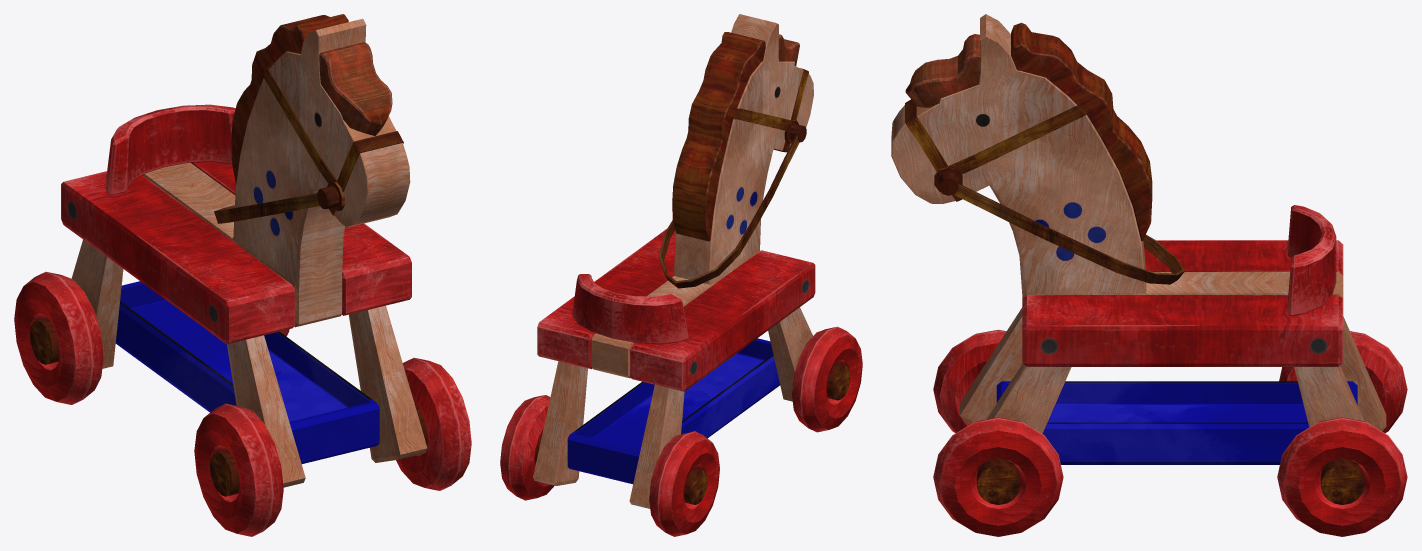
The model's file is horse_car4.fbx.
The picture shows the model from 3 angles, left to right: view 1: azimuth 30°, elevation 25°; view 2: azimuth 150°, elevation 25°; view 3: azimuth 270°, elevation 25°; orthographic projection. The views are drawn at different scales.
Parts seen in each view (by area): view 1: hourse_all_bodies_body1, dai_high_R, dai_low, tire_front_R, tire_back_R, hourse_all1_bodies_semotare, foot_front_L, tire_front_L, dai_high_L, foot_front_R, tategami3, foot_back_R (+5 smaller); view 2: hourse_all_bodies_body1, dai_high_R, dai_low, tategami2, dai_high_L, hourse_all1_bodies_semotare, tire_back_R, tire_front_R, foot_back_L, tire_back_L, foot_back_R, foot_front_R (+4 smaller); view 3: hourse_all_bodies_body1, dai_high_L, dai_low, tire_front_L, tire_back_L, tategami2, hourse_all1_bodies_semotare, dai_high_R, tire_front_R, foot_front_L, tategami3, foot_front_R (+7 smaller).
Boxes of the visible parts, x1=… form: hourse_all_bodies_body1: x1=143, y1=18, x2=410, y2=327; dai_high_R: x1=61, y1=171, x2=294, y2=344; dai_low: x1=115, y1=281, x2=379, y2=463; tire_front_R: x1=194, y1=403, x2=283, y2=536; tire_back_R: x1=14, y1=271, x2=103, y2=404; hourse_all1_bodies_semotare: x1=105, y1=104, x2=235, y2=195; foot_front_L: x1=349, y1=305, x2=427, y2=462; tire_front_L: x1=396, y1=357, x2=471, y2=490; dai_high_L: x1=192, y1=162, x2=411, y2=315; foot_front_R: x1=227, y1=335, x2=305, y2=487; tategami3: x1=319, y1=42, x2=392, y2=135; foot_back_R: x1=71, y1=239, x2=123, y2=368; hourse_all_bodies_body1: x1=591, y1=14, x2=813, y2=378; dai_high_R: x1=630, y1=250, x2=815, y2=391; dai_low: x1=567, y1=338, x2=779, y2=484; tategami2: x1=672, y1=32, x2=765, y2=241; dai_high_L: x1=537, y1=229, x2=675, y2=369; hourse_all1_bodies_semotare: x1=572, y1=274, x2=688, y2=344; tire_back_R: x1=649, y1=431, x2=719, y2=536; tire_front_R: x1=792, y1=326, x2=862, y2=432; foot_back_L: x1=533, y1=361, x2=587, y2=485; tire_back_L: x1=500, y1=395, x2=554, y2=500; foot_back_R: x1=629, y1=385, x2=684, y2=508; foot_front_R: x1=768, y1=307, x2=812, y2=401; hourse_all_bodies_body1: x1=891, y1=14, x2=1343, y2=298; dai_high_L: x1=1022, y1=295, x2=1343, y2=366; dai_low: x1=996, y1=381, x2=1357, y2=464; tire_front_L: x1=933, y1=417, x2=1063, y2=536; tire_back_L: x1=1277, y1=417, x2=1407, y2=536; tategami2: x1=1011, y1=22, x2=1152, y2=240; hourse_all1_bodies_semotare: x1=1287, y1=205, x2=1336, y2=315; dai_high_R: x1=1144, y1=240, x2=1343, y2=275; tire_front_R: x1=933, y1=329, x2=1006, y2=433; foot_front_L: x1=986, y1=363, x2=1071, y2=433; tategami3: x1=905, y1=34, x2=980, y2=107; foot_front_R: x1=960, y1=307, x2=1022, y2=424.
Size of the model in its own units: 46.15 by 94.95 by 95.01.
